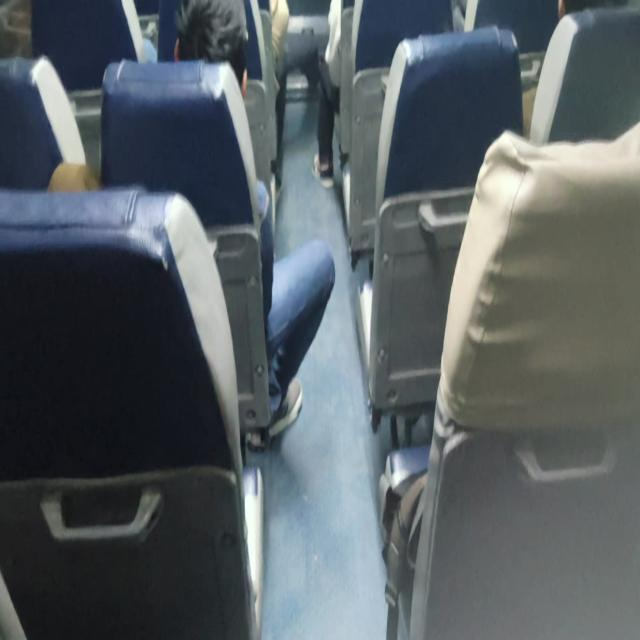person: (171, 0, 265, 106)
